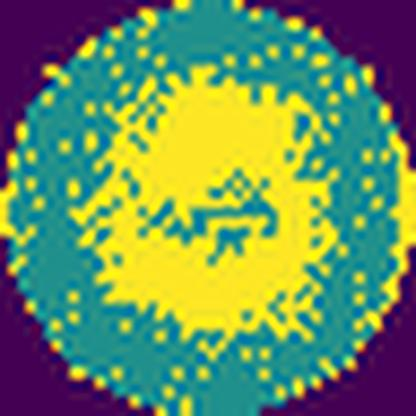Center: (95, 64, 336, 334)
